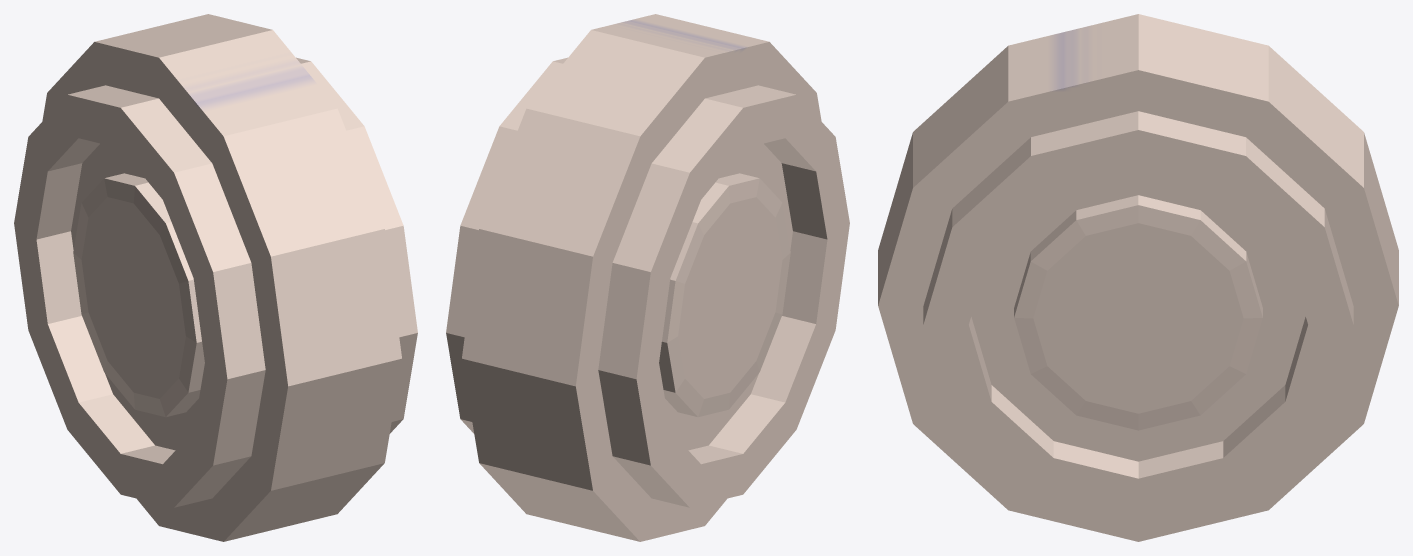
Rendered from 5bakwe.FBX.
3 renders of one model, left to right at view 1: azimuth 30°, elevation 25°; view 2: azimuth 150°, elevation 25°; view 3: azimuth 270°, elevation 25°, orthographic.
Parts seen in each view (by area): view 1: Object001; view 2: Object001; view 3: Object001.
Boxes of the visible parts, box(x1,y1,x2,y2) form: Object001: box(14, 14, 417, 541); Object001: box(446, 14, 849, 541); Object001: box(878, 14, 1398, 541).
Bounding box in the file's own units: 8.76 × 20.58 × 20.58.
1 material, 1 textured.
